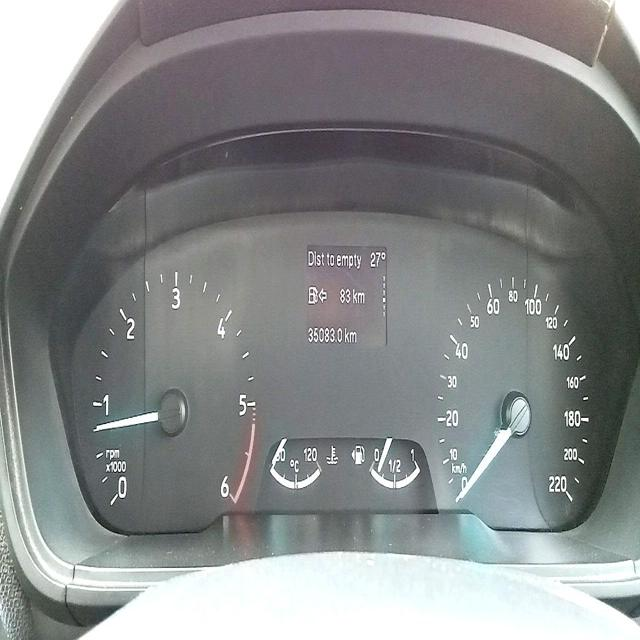odometer: (308, 324, 344, 344)
